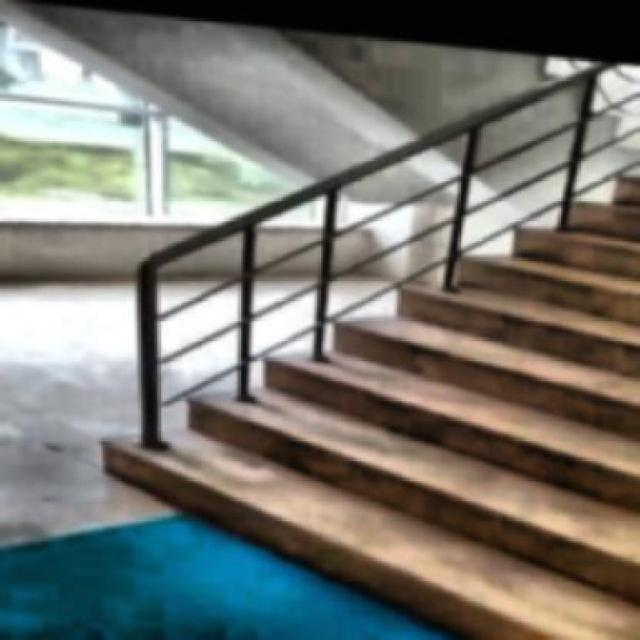stair: (54, 90, 640, 638)
